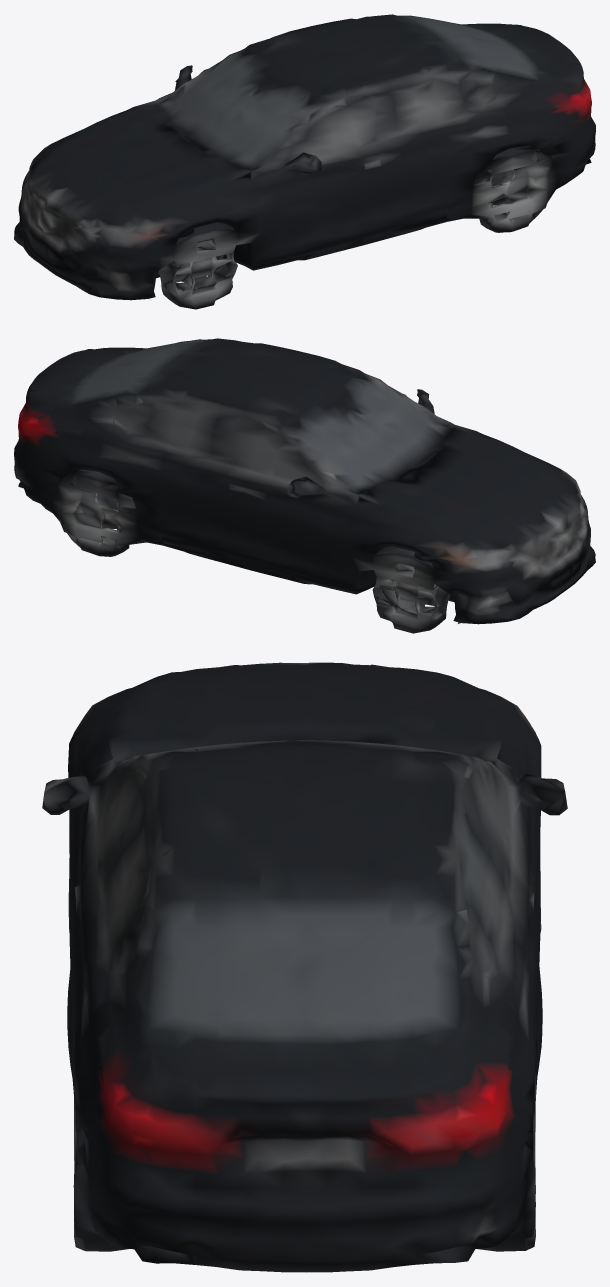
Rendered from executive-car.glb.
3 renders of one model, top to bottom at view 1: azimuth 30°, elevation 25°; view 2: azimuth 150°, elevation 25°; view 3: azimuth 270°, elevation 25°, orthographic. The views are drawn at different scales.
Visible parts, largest first — view 1: models-source/_out/../../public/models/executive-car.glb; view 2: models-source/_out/../../public/models/executive-car.glb; view 3: models-source/_out/../../public/models/executive-car.glb.
Boxes of the visible parts, left/top/right/bottom form: models-source/_out/../../public/models/executive-car.glb: left=14, top=14, right=595, bottom=309; models-source/_out/../../public/models/executive-car.glb: left=14, top=338, right=595, bottom=633; models-source/_out/../../public/models/executive-car.glb: left=42, top=662, right=567, bottom=1272.
Bounding box in the file's own units: 1.9 × 0.5767 × 0.8143.
